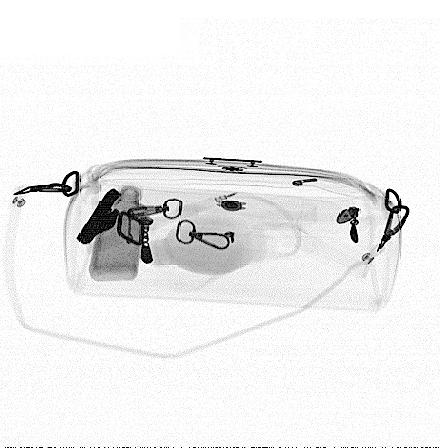Gun: (74, 186, 122, 245)
